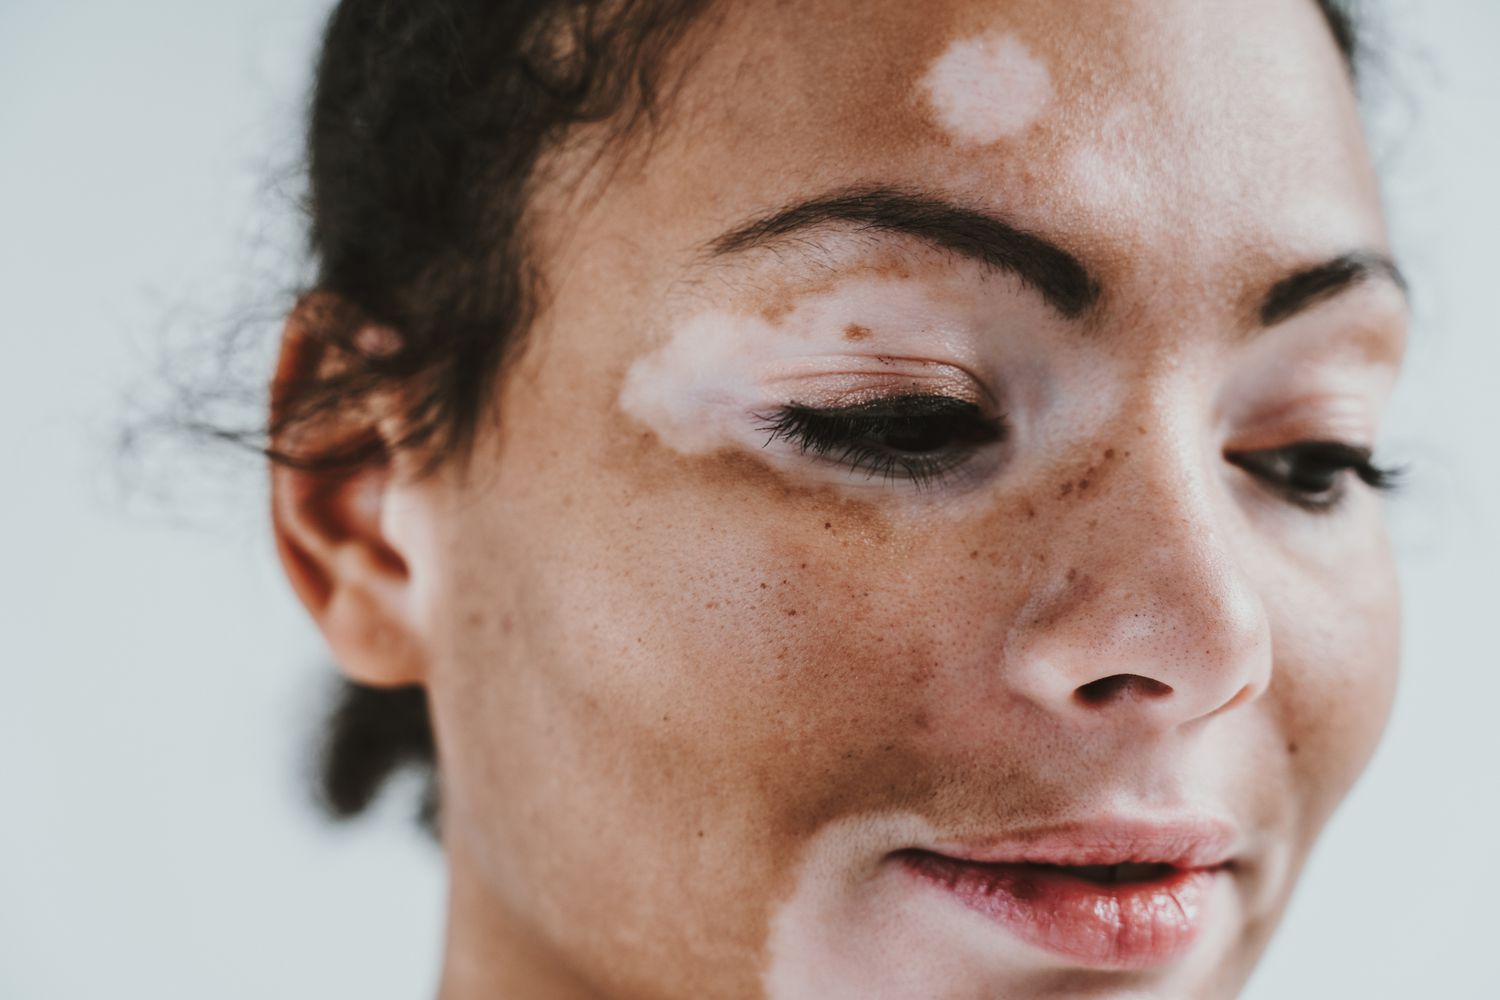Vitiligo: (636, 220, 1447, 611), (725, 759, 1347, 1000), (858, 11, 1131, 223)
